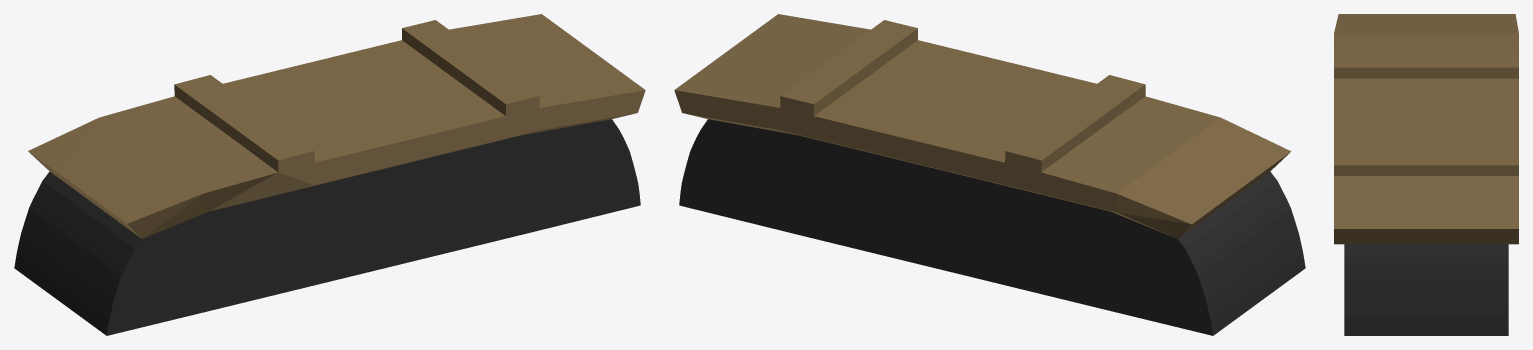
File: LV1_BlackboardDuster.fbx
3 renders of one model, left to right at view 1: azimuth 30°, elevation 25°; view 2: azimuth 150°, elevation 25°; view 3: azimuth 270°, elevation 25°, orthographic. The views are drawn at different scales.
Visible parts, largest first — view 1: pCube1; view 2: pCube1; view 3: pCube1.
Boxes of the visible parts, left/top/right/bottom form: pCube1: left=14, top=14, right=645, bottom=335; pCube1: left=674, top=14, right=1305, bottom=335; pCube1: left=1334, top=14, right=1518, bottom=335.
Size of the model in its own units: 0.9508 by 0.2382 by 0.3207.
